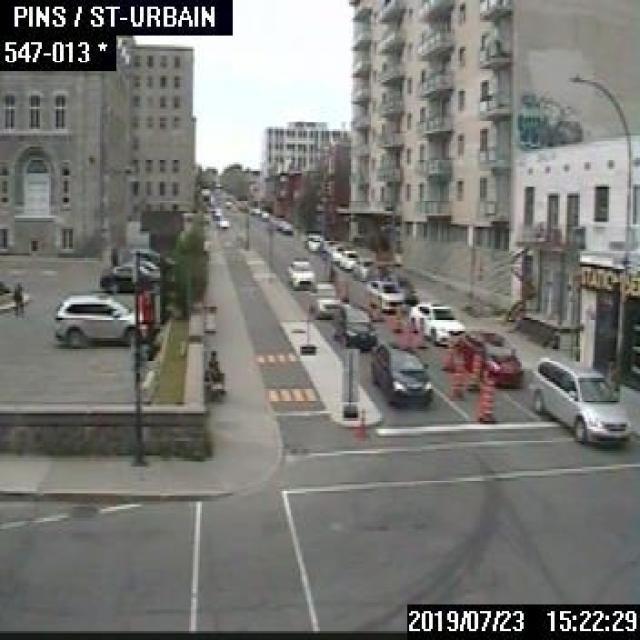construction: (476, 369, 495, 420), (449, 355, 463, 395), (354, 404, 369, 439), (467, 350, 480, 389), (391, 309, 401, 332), (340, 280, 349, 302), (369, 298, 376, 320)
pedestrian: (203, 358, 230, 398), (203, 348, 225, 393), (12, 280, 25, 315)
vehicle: (528, 353, 631, 445), (54, 291, 146, 346), (452, 328, 522, 385), (369, 340, 432, 403), (406, 300, 464, 342), (331, 303, 377, 346), (99, 263, 159, 291), (364, 276, 403, 309), (308, 280, 338, 319), (126, 245, 173, 265), (284, 258, 314, 288), (350, 256, 377, 281), (120, 257, 156, 270), (338, 248, 358, 271), (327, 242, 345, 261), (304, 232, 320, 250), (319, 238, 335, 253), (275, 218, 286, 230), (217, 216, 227, 228), (281, 222, 292, 231)
